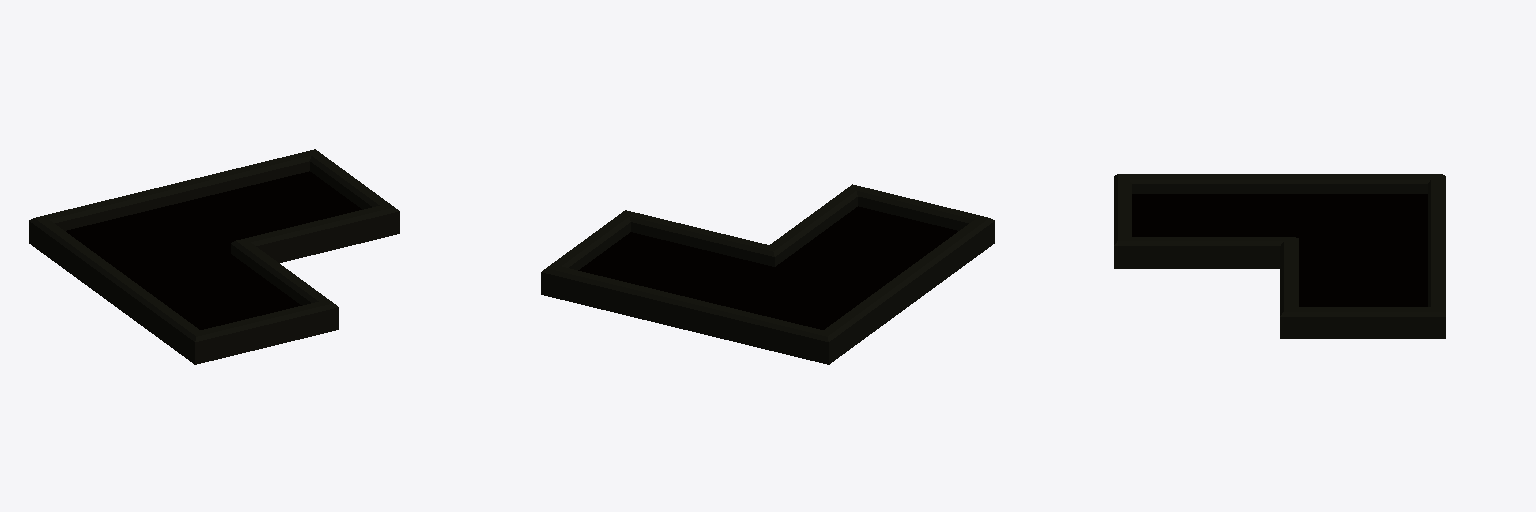
The model's file is FlowerBed5.obj.
The picture shows the model from 3 angles: view 1: azimuth 30°, elevation 25°; view 2: azimuth 150°, elevation 25°; view 3: azimuth 270°, elevation 25°; orthographic projection.
Parts seen in each view (by area): view 1: FlowerBed5_Cube.014; view 2: FlowerBed5_Cube.014; view 3: FlowerBed5_Cube.014.
Part boxes in pixels (left/top/right/bottom): FlowerBed5_Cube.014: left=29, top=149, right=399, bottom=364; FlowerBed5_Cube.014: left=541, top=184, right=994, bottom=364; FlowerBed5_Cube.014: left=1114, top=174, right=1445, bottom=338.
Size of the model in its own units: 4 by 0.3456 by 4.